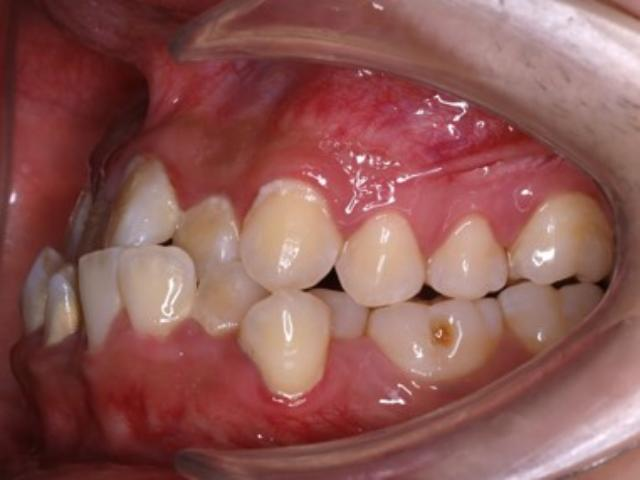molar class III full class: (366, 183, 630, 393)
